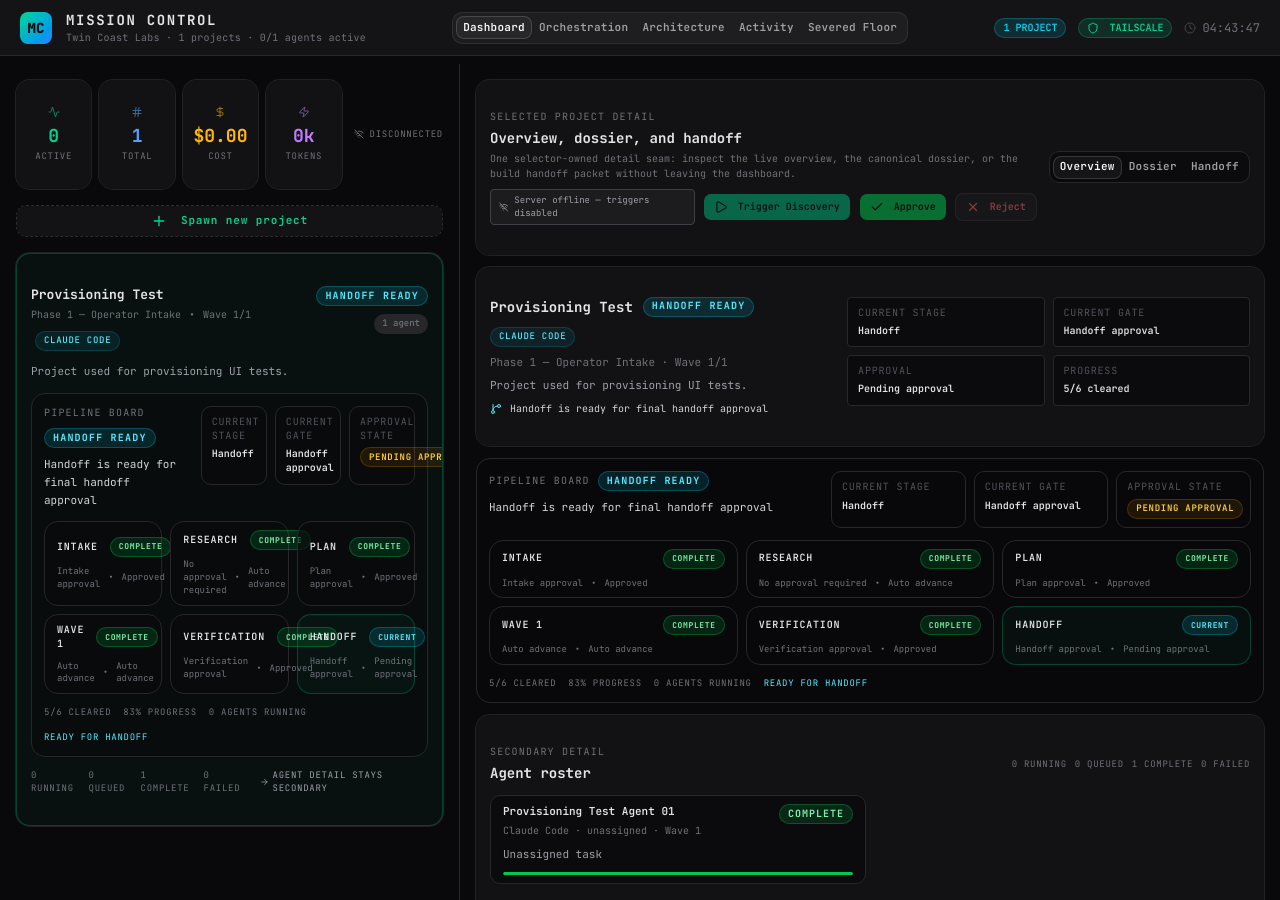
Test: Provisioning UI in HandoffPanel › visibility gating › renders preview button when handoff_ready and provisioning is idle
Click the tab "Handoff" at (1215, 167), box [1184,156,1246,179]
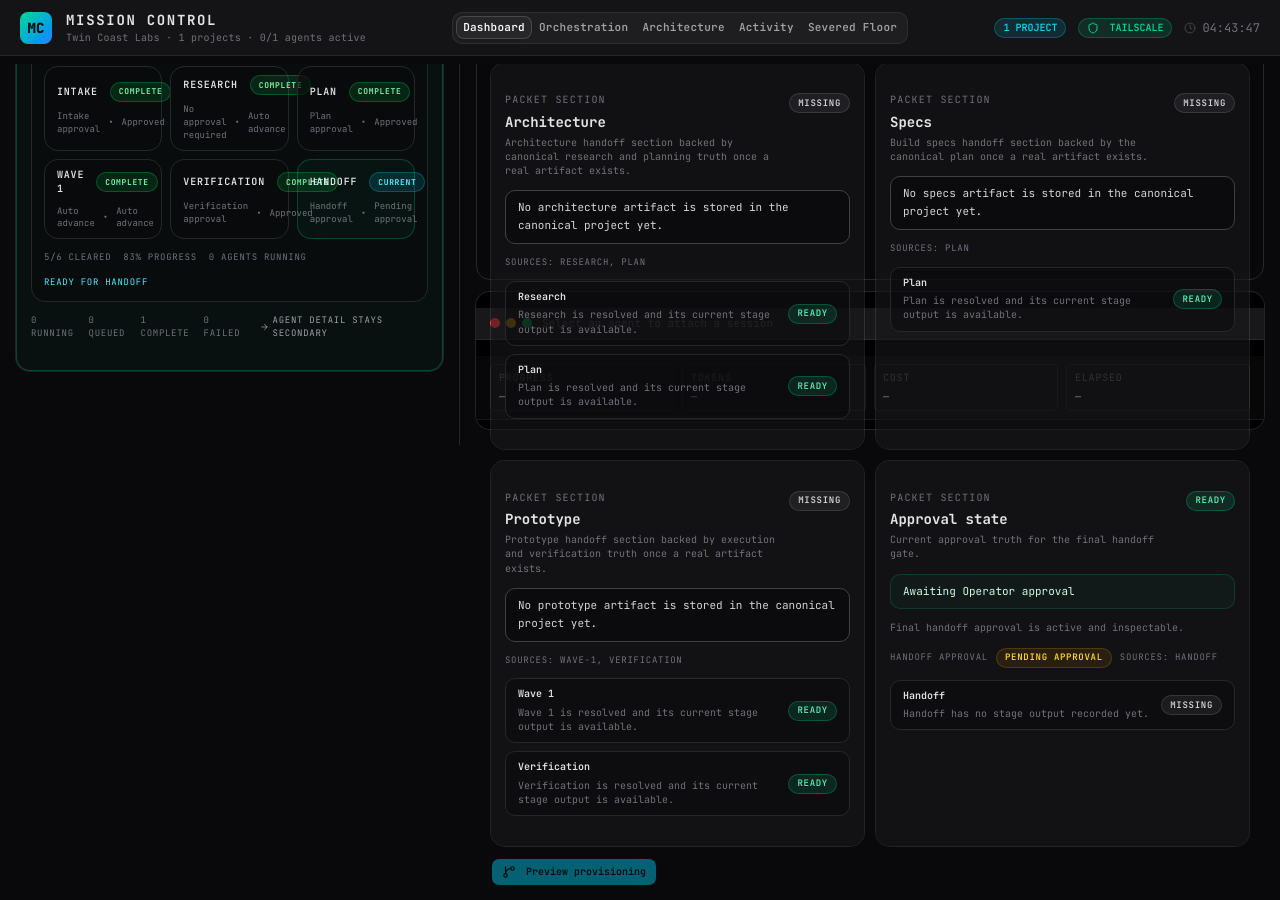
Expected: the button with test id "provisioning-preview-btn" reads "Preview provisioning", [491,858,657,886]
